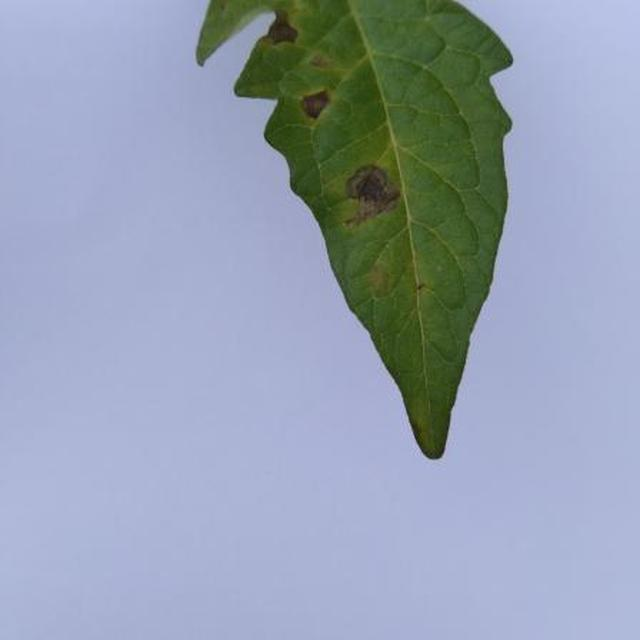Early Blight Leaf: (331, 10, 640, 640)
